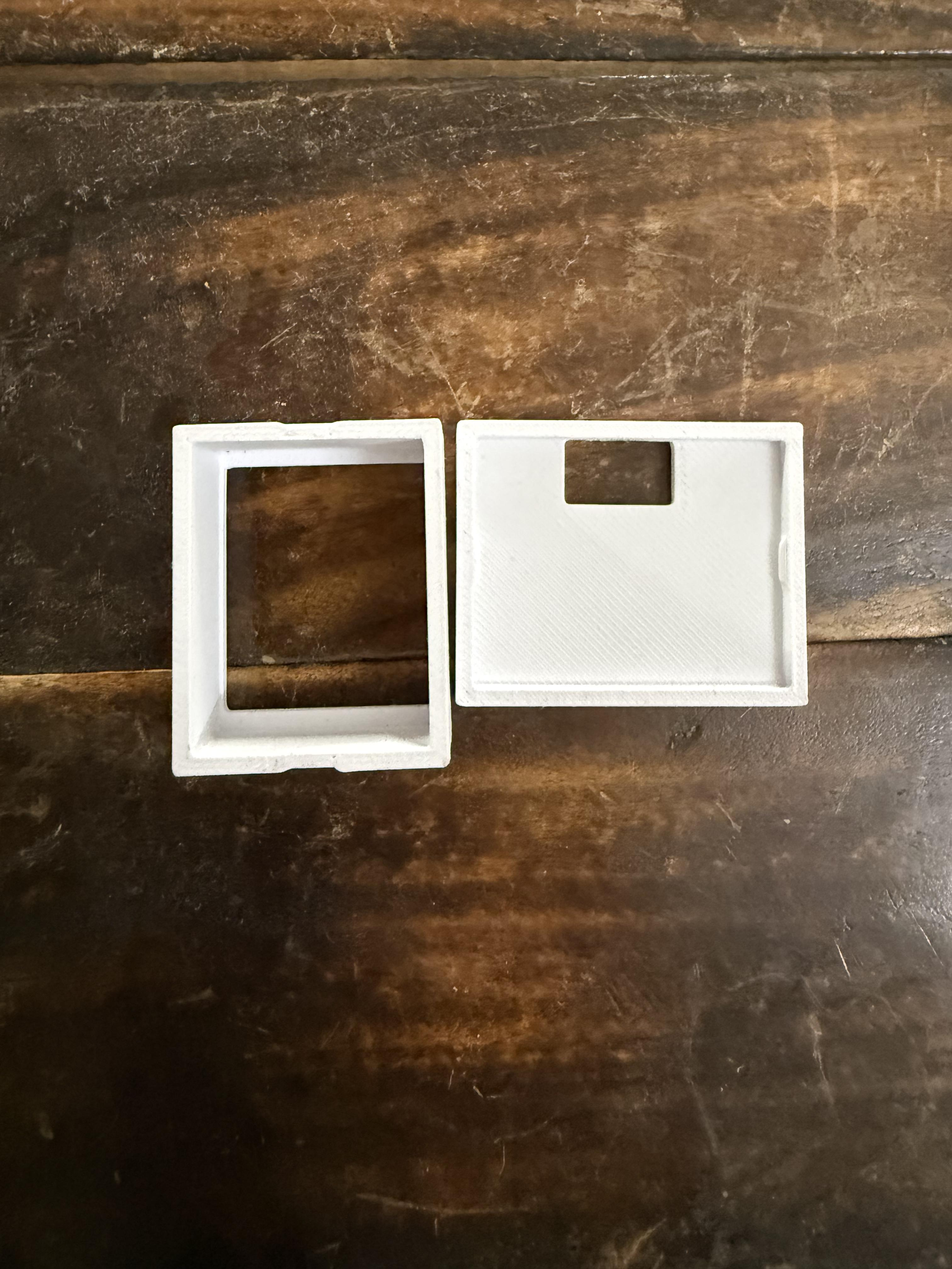enclosure: (454, 419, 809, 708), (171, 418, 451, 777)
